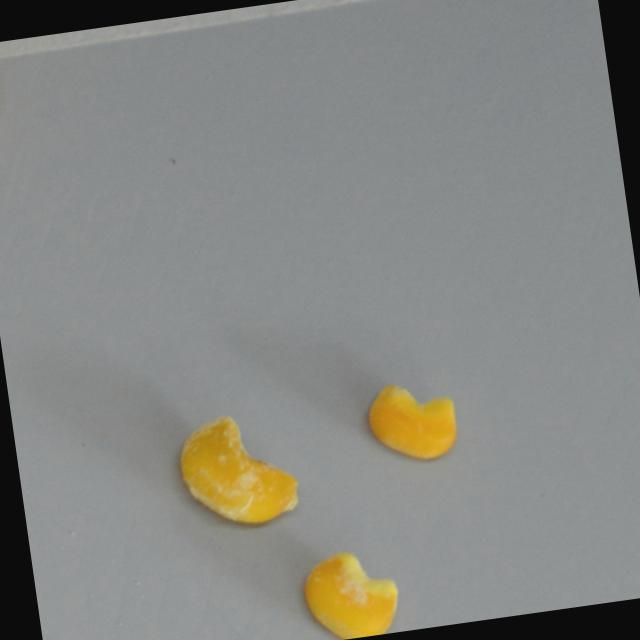no_canjicado: (363, 375, 463, 468)
pelicula: (171, 404, 303, 535), (295, 545, 404, 640)
